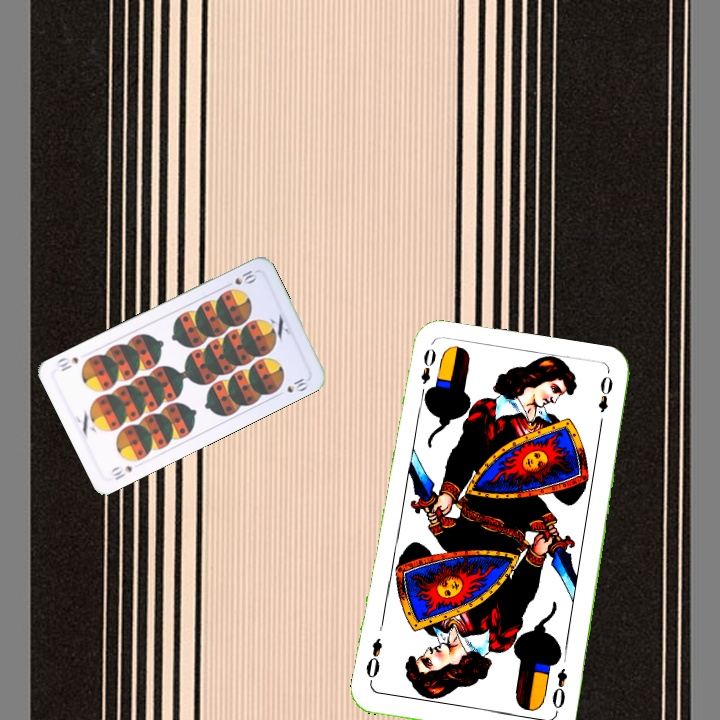EO: (547, 664, 570, 716), (416, 344, 438, 387)
S10: (107, 461, 135, 483), (230, 266, 259, 287)
